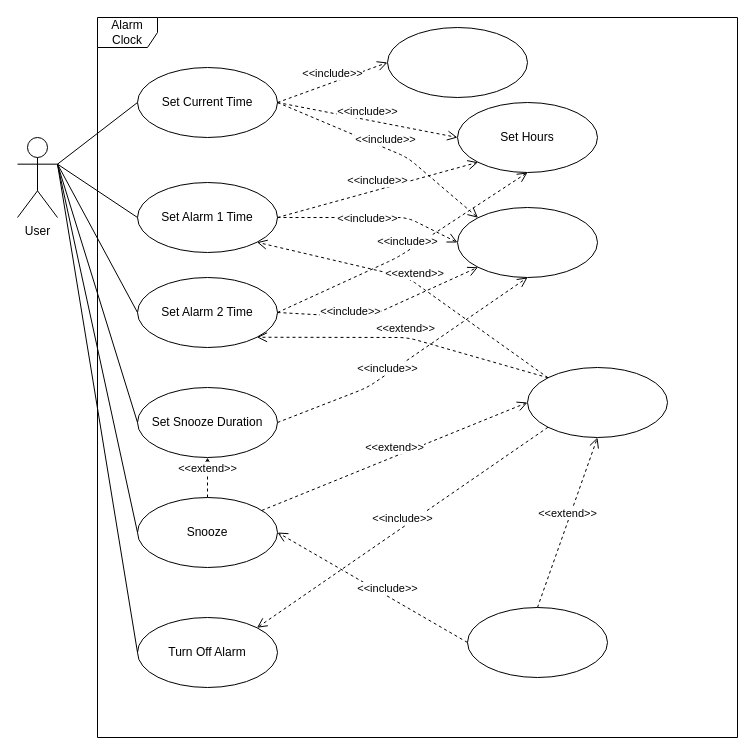
Some shapes in this 755 by 755 pixel diagram are drawn without their labels. The centre of each missing label's shape, as x and y in pixels:
No Response for 2 min: pixel 537 642
Play Sound When Alarm Fires: pixel 597 402
Set 12 or 24 hour format: pixel 457 62
Set Minutes: pixel 527 242
